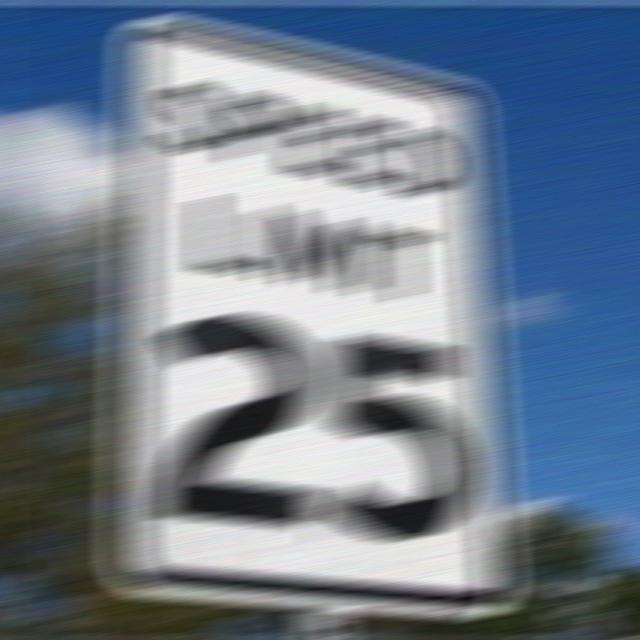speedLimit25: (100, 54, 511, 613)
